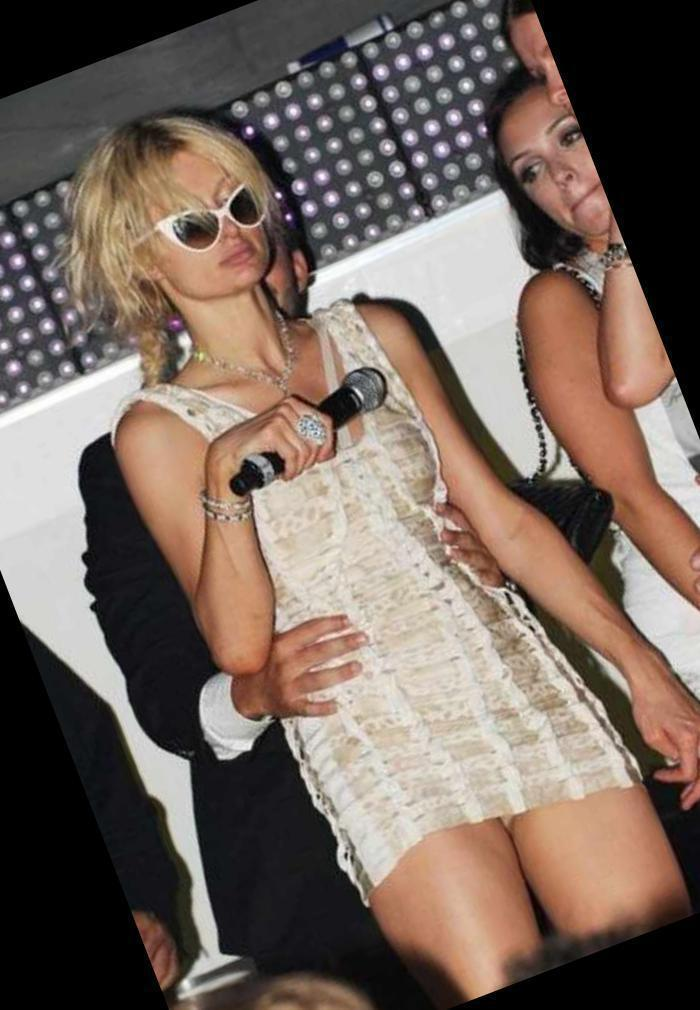Drunk: (145, 154, 266, 295)
